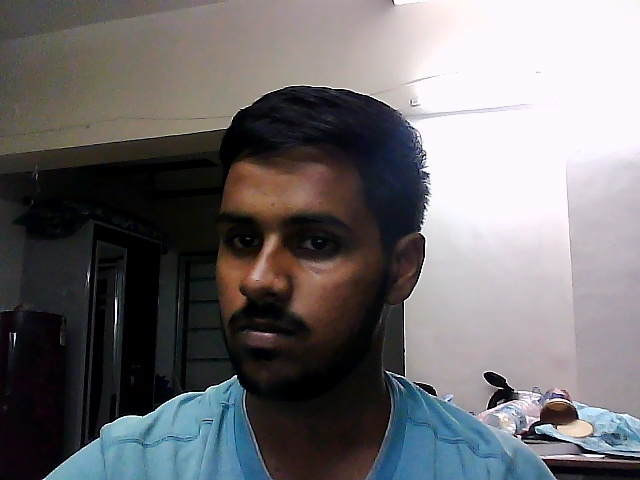awake: (173, 80, 464, 392)
